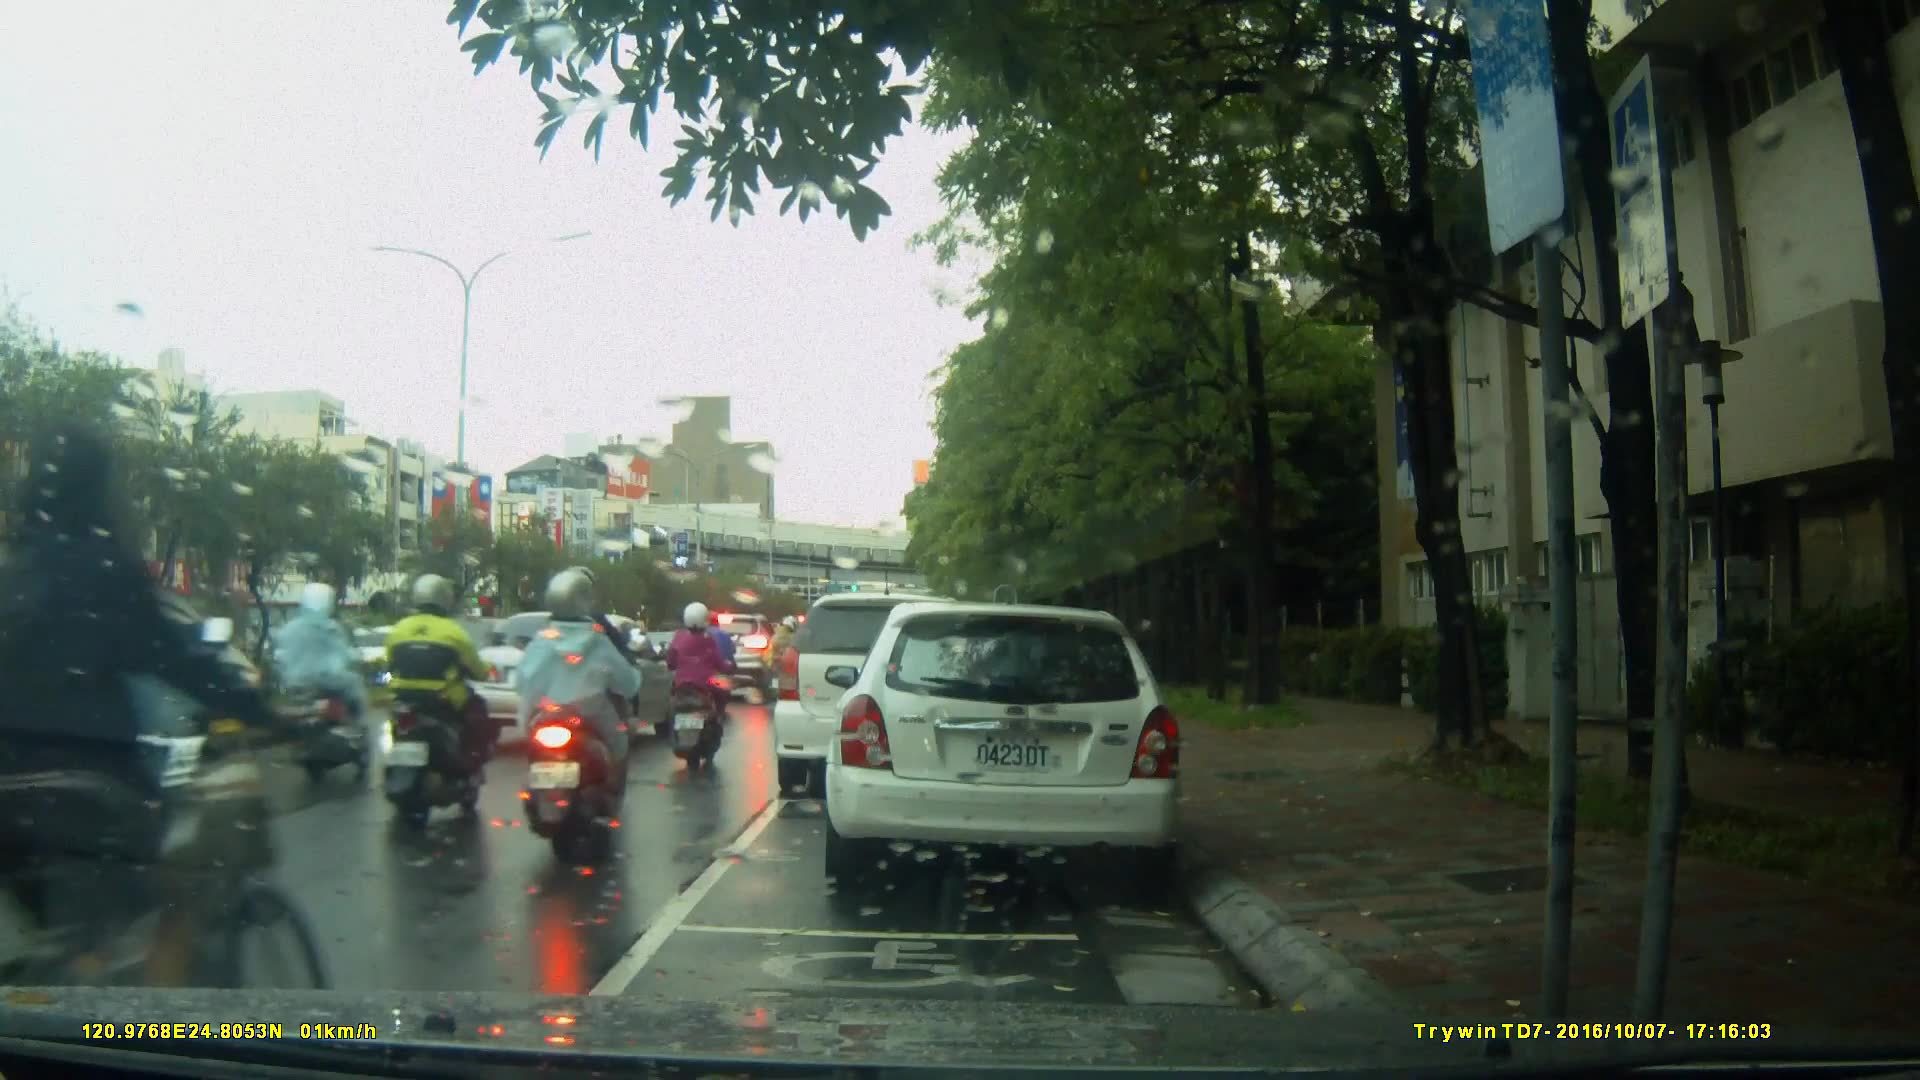rider: (1, 415, 326, 1080), (520, 567, 634, 865), (382, 570, 507, 825), (274, 576, 381, 789), (545, 568, 636, 801), (663, 604, 729, 778), (698, 610, 735, 701)
vehicle: (822, 604, 1188, 883), (774, 595, 995, 802), (467, 611, 678, 749), (682, 614, 789, 703)
